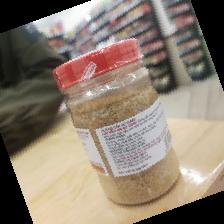Hao_hao: (53, 38, 180, 207)
